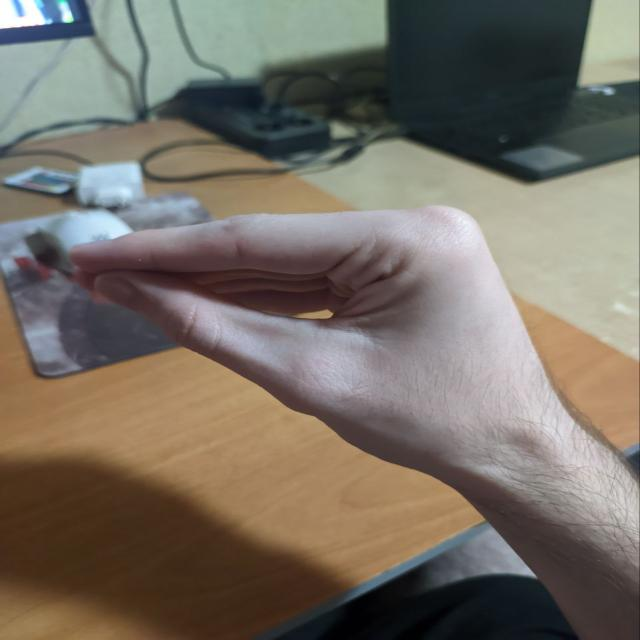zh: (69, 185, 534, 452)
